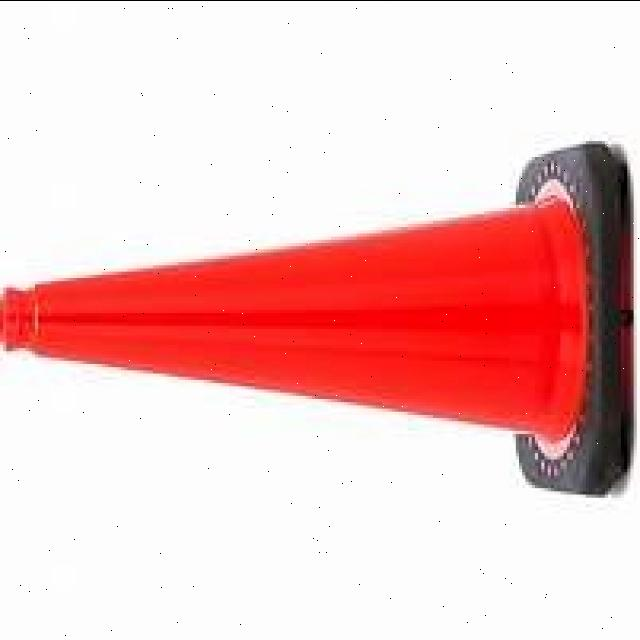traffic cone: (2, 131, 640, 511)
